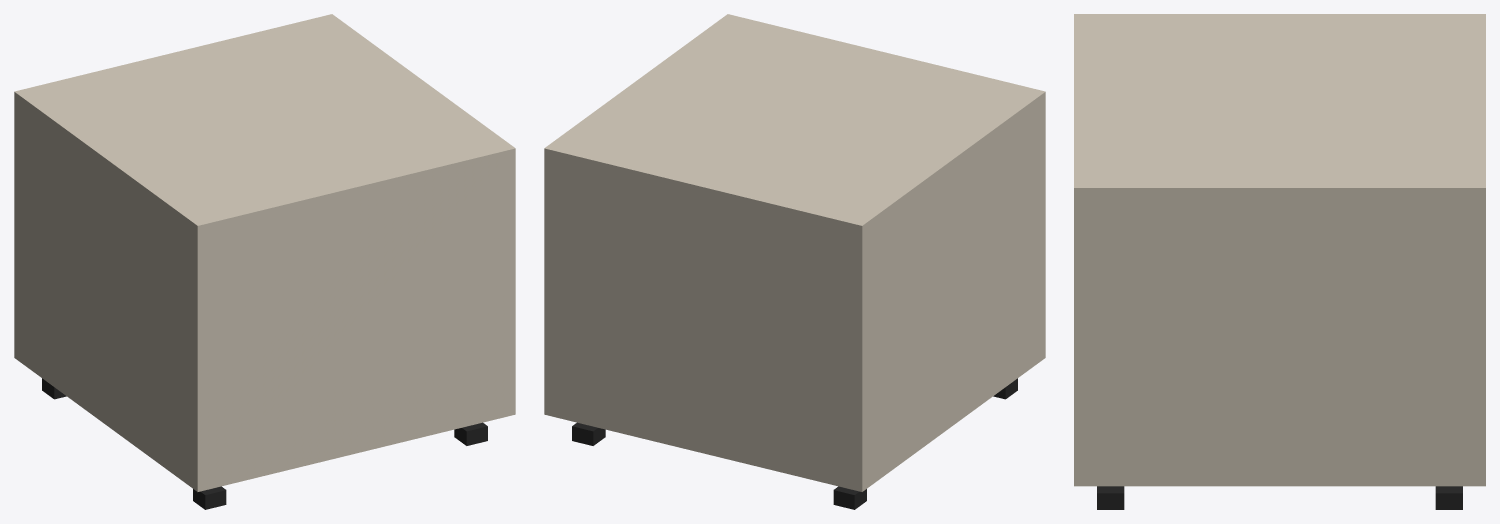
The picture shows the model from 3 angles, left to right: view 1: azimuth 30°, elevation 25°; view 2: azimuth 150°, elevation 25°; view 3: azimuth 270°, elevation 25°; orthographic projection. The views are drawn at different scales.
Parts seen in each view (by area): view 1: Cushion, Feet; view 2: Cushion, Feet; view 3: Cushion, Feet.
Boxes of the visible parts, x1,y1,x2,y2 form: Cushion: (14,14,515,491); Feet: (42,378,487,509); Cushion: (544,14,1045,491); Feet: (572,378,1017,509); Cushion: (1074,14,1485,486); Feet: (1097,486,1462,509).
Size of the model in its own units: 0.45 by 0.4 by 0.45.
